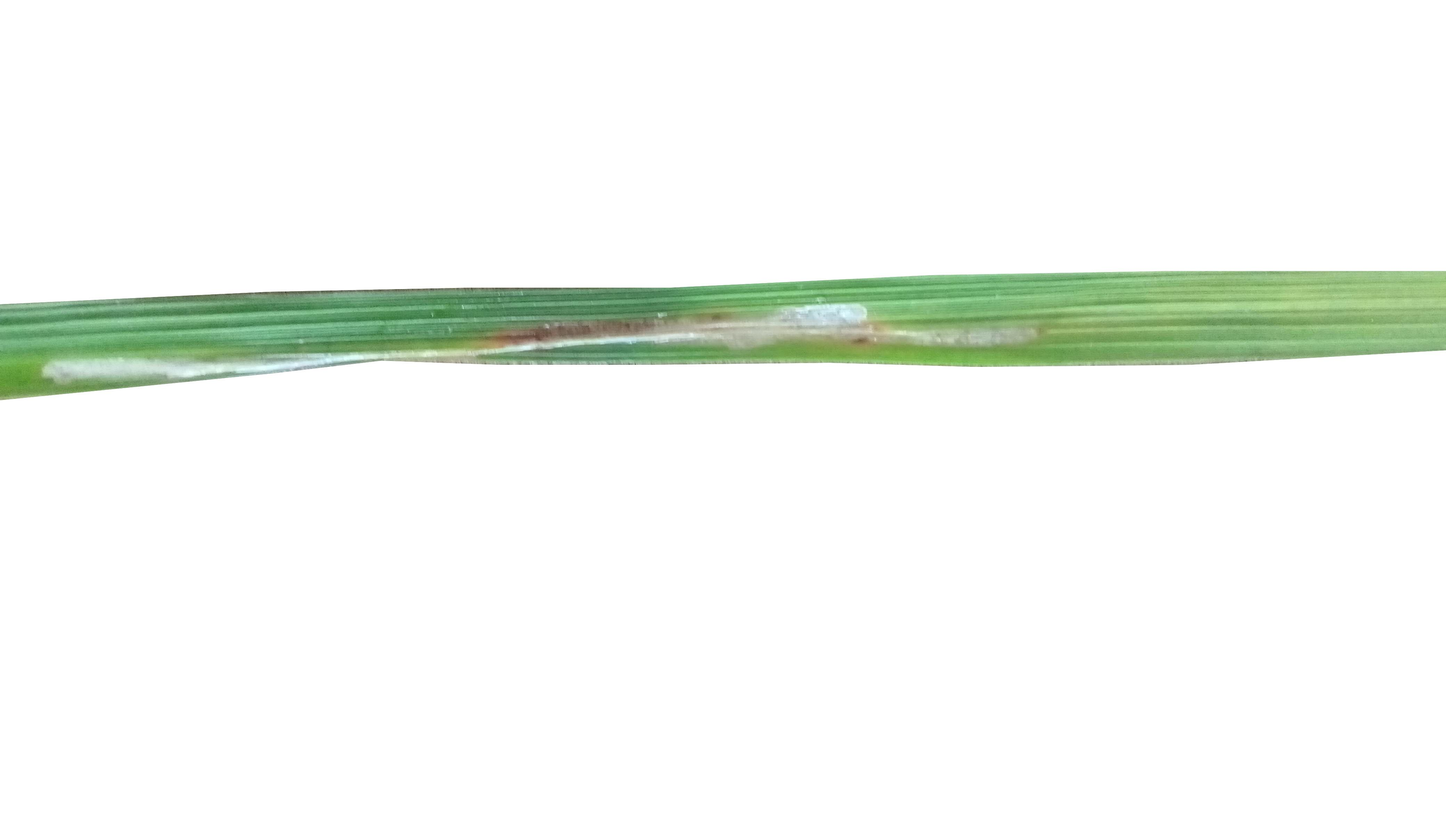Blight: (495, 320, 1053, 351), (723, 299, 883, 353), (42, 346, 320, 377)
